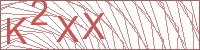2: (30, 1, 49, 26)
K: (5, 17, 28, 44)
X: (55, 14, 80, 44), (82, 11, 104, 39)
